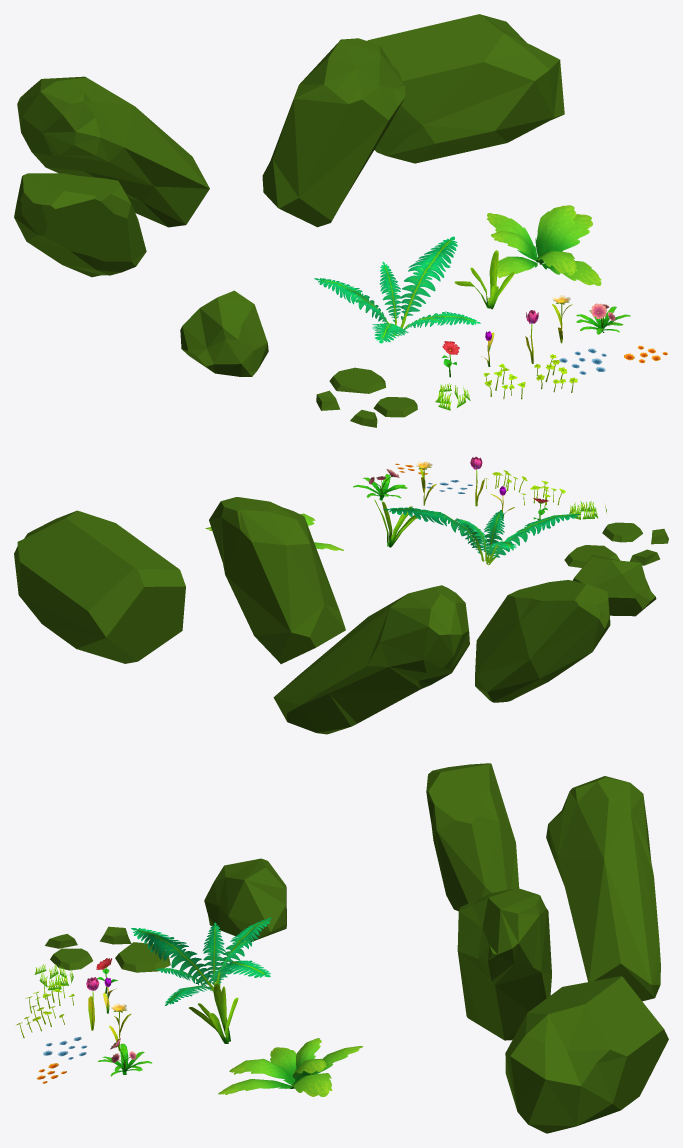
File: Assets.obj
The picture shows the model from 3 angles, top to bottom: view 1: azimuth 30°, elevation 25°; view 2: azimuth 150°, elevation 25°; view 3: azimuth 270°, elevation 25°; orthographic projection. The views are drawn at different scales.
Visible parts, largest first — view 1: Rock.009, Rock.006, Rock.001, Rock.007, Rock.008, Plane.006, Plane.007, Rock.003, Flower2.006, Flower4.001, Rock.002; view 2: Rock.009, Rock.001, Rock.006, Rock.007, Rock.008, Plane.007, Rock.003, Rock.002, Flower4.001, Flower2.006; view 3: Rock.009, Rock.001, Rock.006, Rock.007, Rock.008, Plane.007, Plane.006, Rock.003, Flower2.006, Rock.002, Flower4.001.
Boxes of the visible parts, <box> form: Rock.009: <box>367,14,564,163</box>; Rock.006: <box>262,38,405,227</box>; Rock.001: <box>17,76,209,227</box>; Rock.007: <box>14,173,146,277</box>; Rock.008: <box>180,290,268,376</box>; Plane.006: <box>487,205,601,285</box>; Plane.007: <box>314,236,480,343</box>; Rock.003: <box>329,367,385,393</box>; Flower2.006: <box>454,250,515,309</box>; Flower4.001: <box>576,303,630,334</box>; Rock.002: <box>373,397,417,417</box>; Rock.009: <box>14,510,185,663</box>; Rock.001: <box>273,585,469,734</box>; Rock.006: <box>209,497,345,663</box>; Rock.007: <box>475,580,610,702</box>; Rock.008: <box>573,555,656,616</box>; Plane.007: <box>383,507,581,565</box>; Rock.003: <box>564,545,619,567</box>; Rock.002: <box>602,522,642,542</box>; Flower4.001: <box>353,469,407,500</box>; Flower2.006: <box>374,499,426,547</box>; Rock.009: <box>505,976,668,1133</box>; Rock.001: <box>546,776,660,1001</box>; Rock.006: <box>457,888,551,1040</box>; Rock.007: <box>426,763,519,911</box>; Rock.008: <box>204,858,286,941</box>; Plane.007: <box>131,917,271,1005</box>; Plane.006: <box>218,1038,362,1096</box>; Rock.003: <box>115,942,170,972</box>; Flower2.006: <box>189,984,238,1043</box>; Rock.002: <box>50,948,92,970</box>; Flower4.001: <box>98,1038,152,1076</box>.
Size of the model in its own units: 3.23 by 0.9568 by 3.16.
